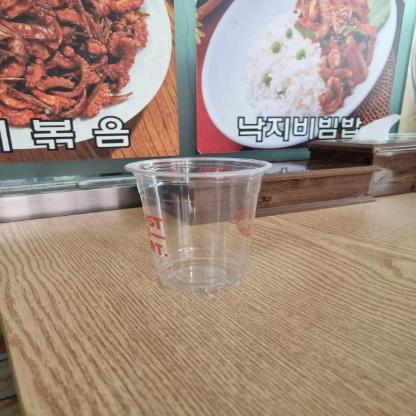Plastic Cup: (126, 158, 270, 294)
